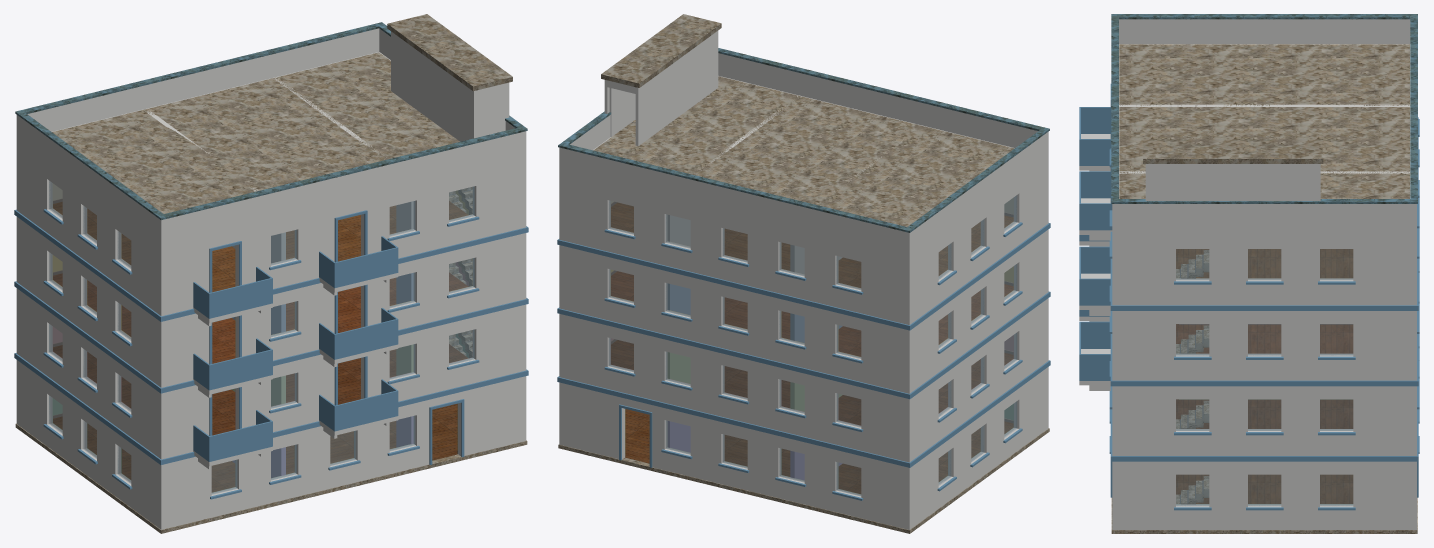
File: bay-apartments.coast-v2.lod0.glb
3 views of the same model, side by side, from view 1: azimuth 30°, elevation 25°; view 2: azimuth 150°, elevation 25°; view 3: azimuth 270°, elevation 25° (orthographic). The views are drawn at different scales.
Parts seen in each view (by area): view 1: bay-apartments; view 2: bay-apartments; view 3: bay-apartments.
Boxes of the visible parts, x1,y1,x2,y2 form: bay-apartments: (14,14,528,533); bay-apartments: (557,14,1050,533); bay-apartments: (1079,14,1419,533).
Size of the model in its own units: 16.2 by 14.95 by 12.3.
4 materials, 2 textured.
